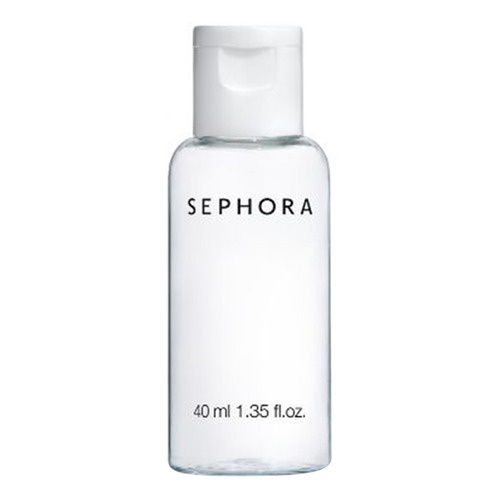emptybottle: (169, 26, 332, 475)
